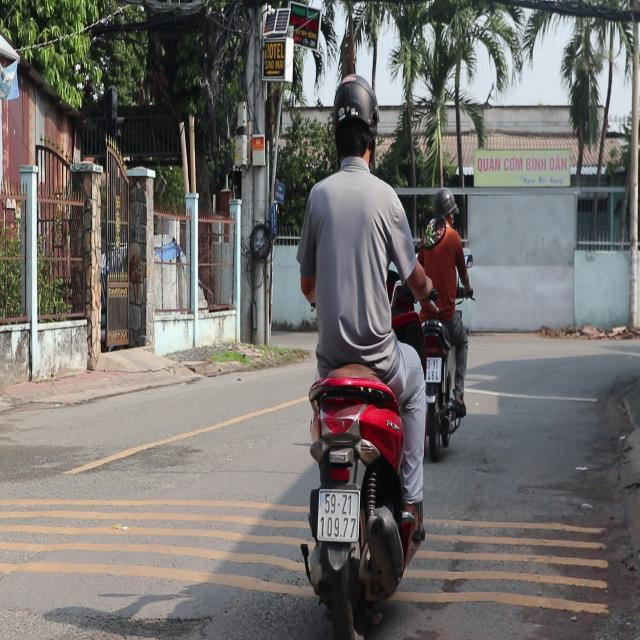helmet: (329, 72, 379, 170), (432, 185, 452, 227)
licenseplate: (291, 70, 438, 633), (416, 185, 472, 457)
nohelmet: (317, 492, 358, 540), (425, 357, 440, 381)
